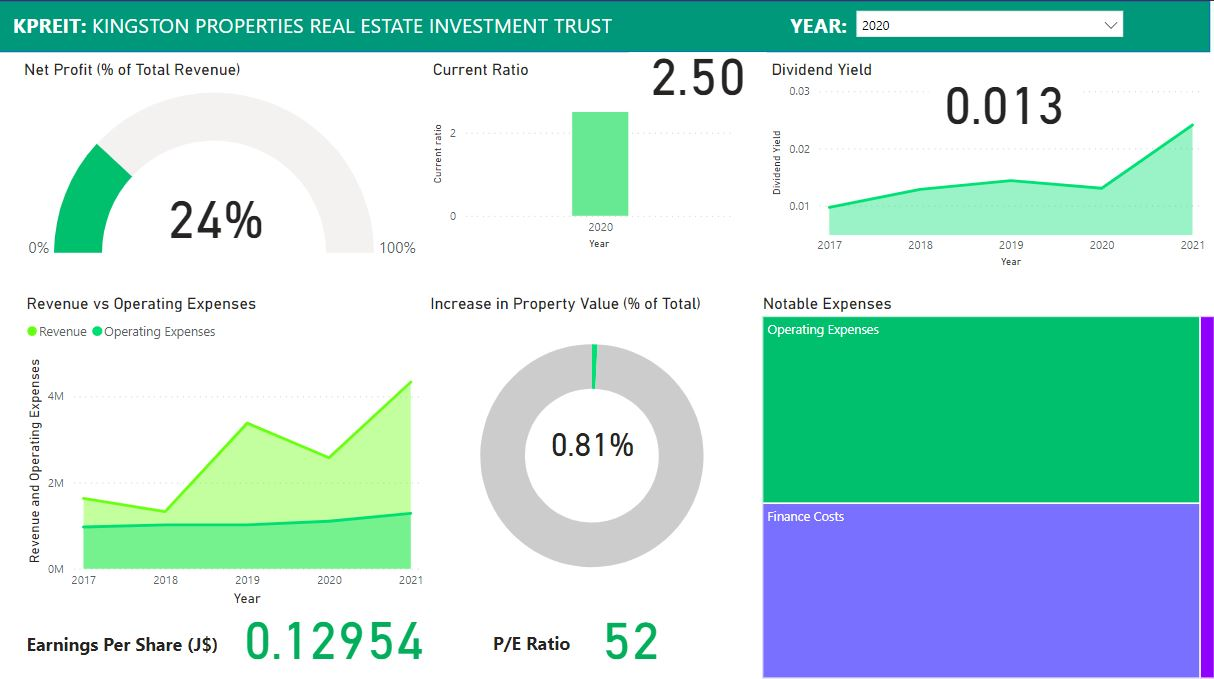

What the dashboard file says about the page in this screenshot:
{"tool":"powerbi","page":{"name":"Page 1","canvas":[1280,720],"ordinal":0},"visuals":[{"type":"shape","box":[0,0,1270.4,53.6],"z":0},{"type":"textbox","box":[11,5.5,723.8,43.9],"z":1000},{"type":"textbox","box":[825.4,5.5,127.7,41.2],"z":2000},{"type":"gauge","title":"Net Profit (% of Total Revenue)","fields":{"Y":["Avg(Sheet1.Net Profit/Total Revenue)"],"MinValue":["Sheet1.min_np/tr"],"MaxValue":["Sheet1.max_np/tr"]},"box":[22,61.8,425.8,222.5],"z":3000},{"type":"areaChart","title":"Dividend Yield","fields":{"Category":["Sheet1 (2).Year","Sheet1 (2).Dividend Yield"],"Y":["Sum(Sheet1 (2).Dividend Yield)"]},"box":[806.2,61.8,464.2,222.5],"z":4000},{"type":"clusteredColumnChart","title":"Current Ratio","fields":{"Category":["Sheet1.Year","Sheet1.Current ratio"],"Y":["Sum(Sheet1.Current ratio)"]},"box":[450.5,61.8,324.1,203.3],"z":5000},{"type":"areaChart","title":"Revenue vs Operating Expenses","fields":{"Category":["Sheet1 (2).Year"],"Y":["Sum(Sheet1 (2).Revenue)","Sum(Sheet1 (2).Operating Expenses)"]},"box":[24.7,306.3,425.8,332.4],"z":6000},{"type":"treemap","title":"Notable Expenses","fields":{"Values":["Sum(Sheet1.Management Fees)","Sum(Sheet1.Loss on disposal of furniture and equipment)","Sum(Sheet1.Investment Fee)","Sum(Sheet1.Finance Costs)","Sum(Sheet1.Operating Expenses)"]},"box":[796.6,306.3,483.4,407.9],"z":7000},{"type":"donutChart","title":"Increase in Property Value (% of Total)","fields":{"Y":["Sheet1.abs_ipv","Sheet1.Other Value"]},"box":[447.7,306.3,348.8,321.4],"z":8000},{"type":"card","fields":{"Values":["Avg(Sheet1.Dividend Yield)"]},"box":[976.5,85.2,157.9,57.7],"z":9000},{"type":"card","fields":{"Values":["Avg(Sheet1.Current ratio)"]},"box":[662,53.6,144.2,60.4],"z":10000},{"type":"slicer","fields":{"Values":["Sheet1.Year"]},"box":[890,0,299.4,53.6],"z":11000},{"type":"card","fields":{"Values":["Sheet1.np/tr"]},"box":[142.8,201.9,171.7,63.2],"z":12000},{"type":"textbox","box":[24.7,656.5,232.1,50.8],"z":13000},{"type":"card","fields":{"Values":["Sum(Sheet1.Earnings per stck unit (adj.) (adj.))"]},"box":[229.4,640,245.8,67.3],"z":14000},{"type":"textbox","box":[513.6,655.1,108.5,33],"z":15000},{"type":"card","fields":{"Values":["Sheet1.P/E Ratio"]},"box":[601.5,641.4,122.2,65.9],"z":16000},{"type":"card","fields":{"Values":["Sheet1.ipv"]},"box":[563.1,446.4,119.5,52.2],"z":17000}]}

Visuals, with their boxes in screenshot pixels (x1, y1, x2, y2), scaled from the page's 1280x720 canvas onto the 1214x679 screenshot:
shape: BBox(0, 0, 1205, 51)
textbox: BBox(10, 5, 697, 47)
textbox: BBox(783, 5, 904, 44)
"Net Profit (% of Total Revenue)" gauge: BBox(21, 58, 425, 268)
"Dividend Yield" areaChart: BBox(765, 58, 1205, 268)
"Current Ratio" clusteredColumnChart: BBox(427, 58, 735, 250)
"Revenue vs Operating Expenses" areaChart: BBox(23, 289, 427, 602)
"Notable Expenses" treemap: BBox(756, 289, 1213, 674)
"Increase in Property Value (% of Total)" donutChart: BBox(425, 289, 755, 592)
card - Avg(Sheet1.Dividend Yield): BBox(926, 80, 1076, 135)
card - Avg(Sheet1.Current ratio): BBox(628, 51, 765, 108)
slicer - Sheet1.Year: BBox(844, 0, 1128, 51)
card - Sheet1.np/tr: BBox(135, 190, 298, 250)
textbox: BBox(23, 619, 244, 667)
card - Sum(Sheet1.Earnings per stck unit (adj.) (adj.)): BBox(218, 604, 451, 667)
textbox: BBox(487, 618, 590, 649)
card - Sheet1.P/E Ratio: BBox(570, 605, 686, 667)
card - Sheet1.ipv: BBox(534, 421, 647, 470)
